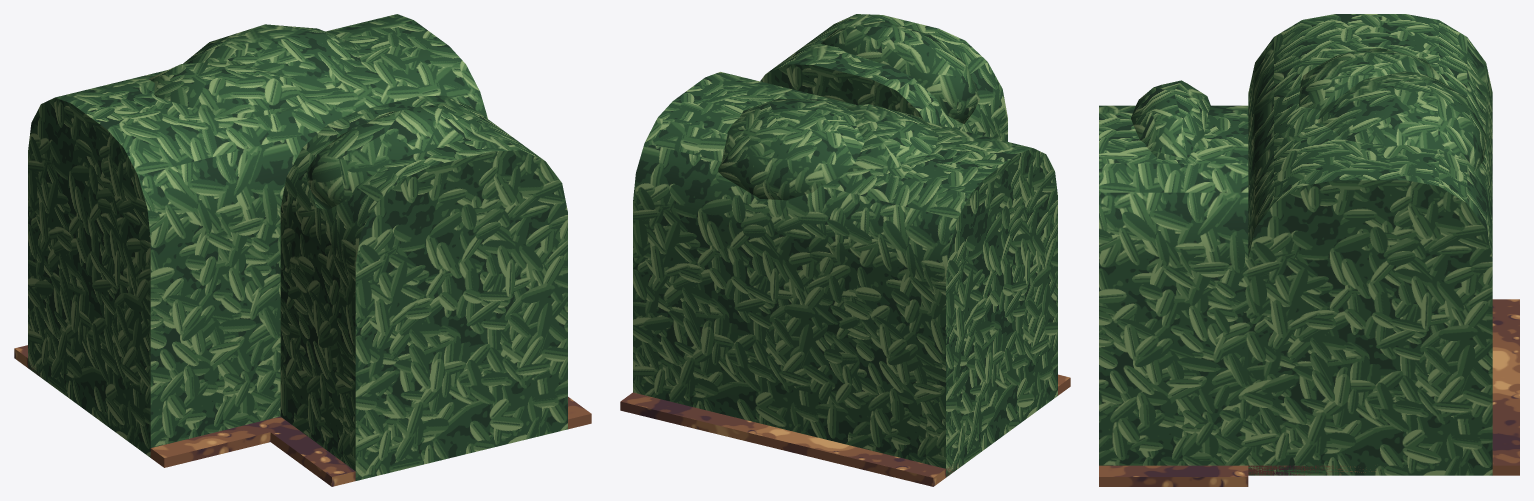
The model's file is hedge_corner.glb.
3 renders of one model, left to right at view 1: azimuth 30°, elevation 25°; view 2: azimuth 150°, elevation 25°; view 3: azimuth 270°, elevation 25°, orthographic. The views are drawn at different scales.
Parts seen in each view (by area): view 1: Hedge; view 2: Hedge; view 3: Hedge.
Boxes of the visible parts, x1,y1,x2,y2 form: Hedge: [14, 14, 591, 486]; Hedge: [620, 14, 1070, 486]; Hedge: [1099, 14, 1519, 486].
Size of the model in its own units: 1.55 by 1.31 by 1.55.
Materials: 2 (2 with a texture image).
